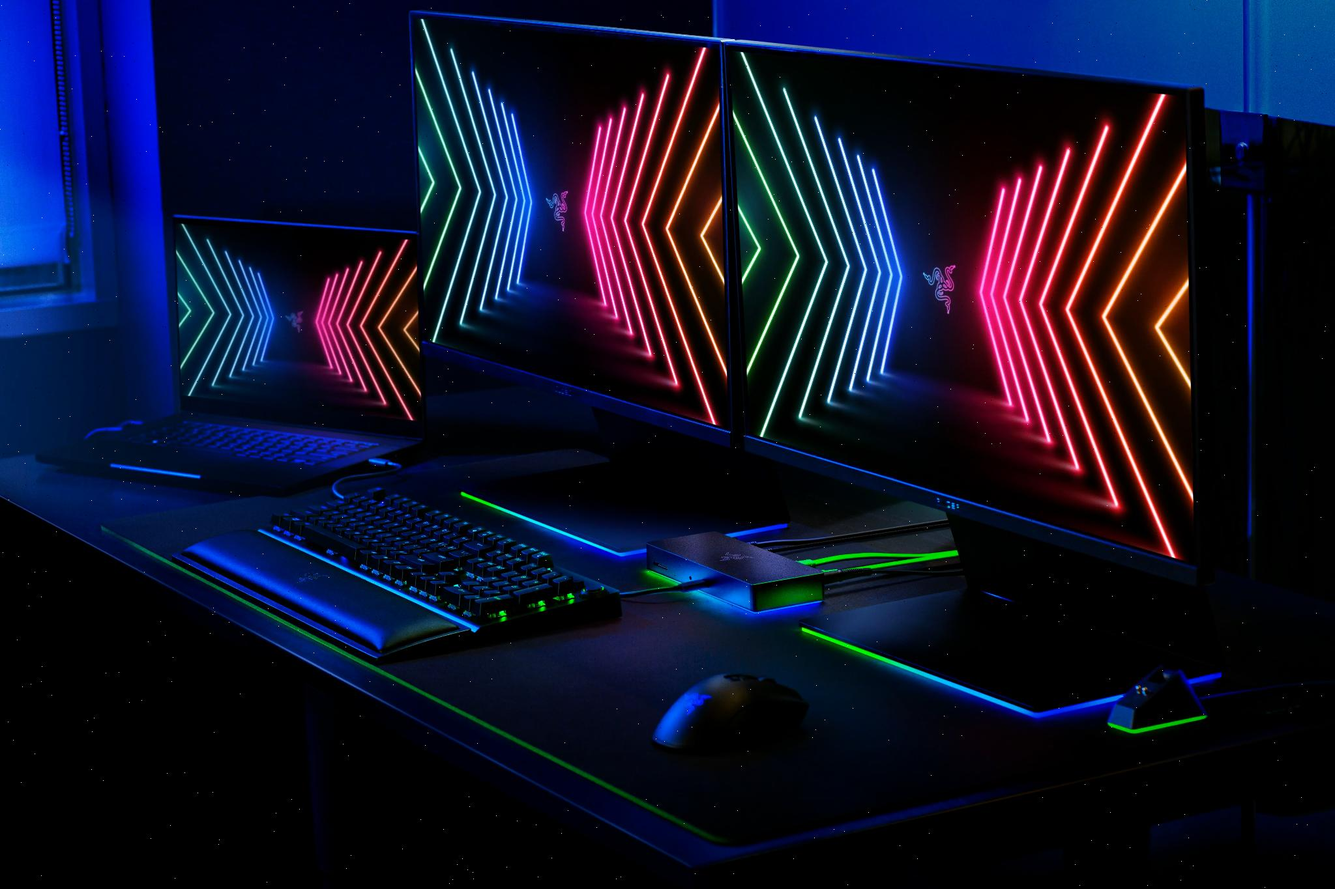keyboard: (229, 454, 640, 676)
laptop: (28, 190, 445, 502)
monitor: (714, 19, 1270, 608), (373, 0, 745, 480)
mouse: (621, 644, 834, 786)
